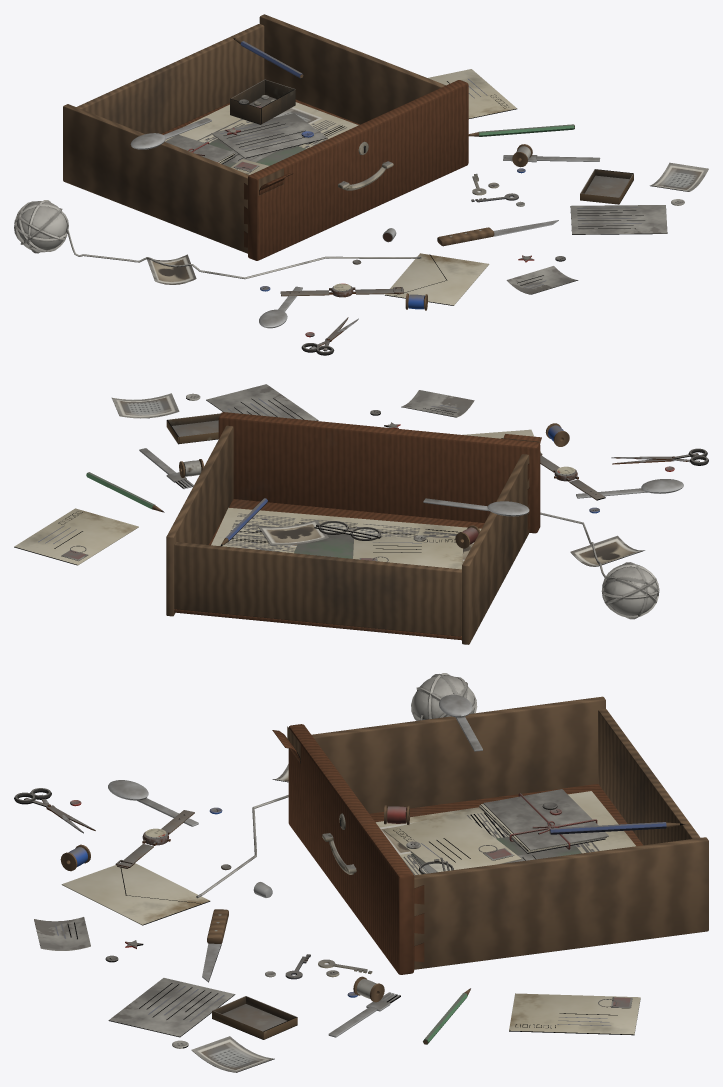
The model's file is SM_Drawer_Fallen.fbx.
The picture shows the model from 3 angles, top to bottom: view 1: azimuth 30°, elevation 25°; view 2: azimuth 150°, elevation 25°; view 3: azimuth 270°, elevation 25°; orthographic projection. The views are drawn at different scales.
Parts seen in each view (by area): view 1: SM_Drawer_Fallen; view 2: SM_Drawer_Fallen; view 3: SM_Drawer_Fallen.
Part boxes in pixels (box(x1,y1,x2,y2)): SM_Drawer_Fallen: box(14, 14, 708, 355); SM_Drawer_Fallen: box(14, 384, 708, 644); SM_Drawer_Fallen: box(14, 673, 708, 1072).
Size of the model in its own units: 1.08 by 0.1453 by 0.894.
Materials: 2 (1 with a texture image).
